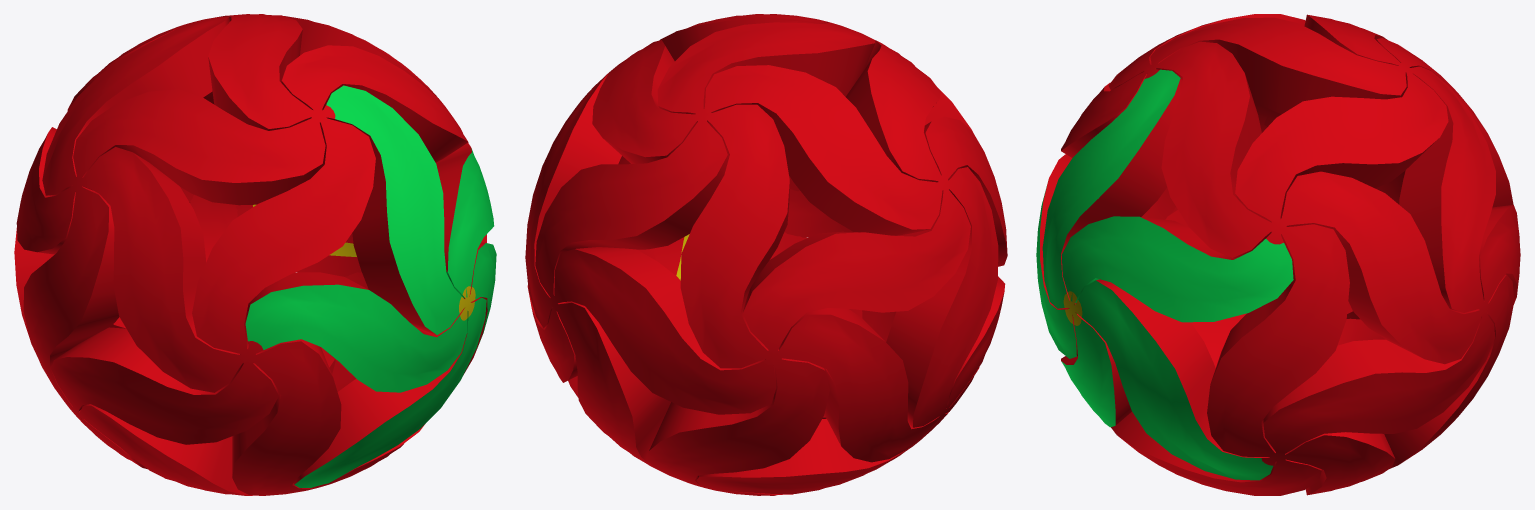
Rendered from floraa.fbx.
3 renders of one model, left to right at view 1: azimuth 30°, elevation 25°; view 2: azimuth 150°, elevation 25°; view 3: azimuth 270°, elevation 25°, orthographic.
Parts seen in each view (by area): view 1: Hedra001; view 2: Hedra001; view 3: Hedra001.
Boxes of the visible parts, left/top/right/bottom form: Hedra001: left=14, top=14, right=496, bottom=495; Hedra001: left=525, top=14, right=1007, bottom=495; Hedra001: left=1036, top=14, right=1520, bottom=495.
Size of the model in its own units: 215 by 215 by 215.
